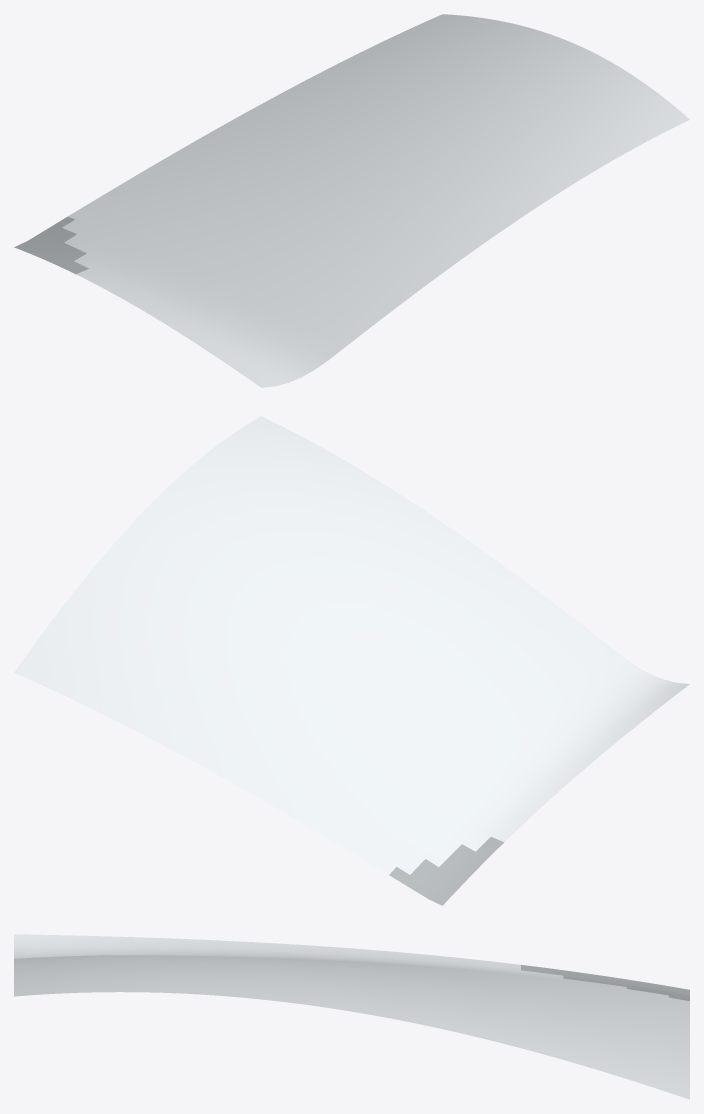
The model's file is alpine-13-9.glb.
3 views of the same model, one above another, from view 1: azimuth 30°, elevation 25°; view 2: azimuth 150°, elevation 25°; view 3: azimuth 270°, elevation 25° (orthographic). The views are drawn at different scales.
Visible parts, largest first — view 1: alpine-13-9; view 2: alpine-13-9; view 3: alpine-13-9.
Boxes of the visible parts, <box> form: alpine-13-9: <box>14,14,689,387</box>; alpine-13-9: <box>14,416,689,905</box>; alpine-13-9: <box>14,934,689,1099</box>.
Size of the model in its own units: 256 by 118 by 256.
2 materials, 2 textured.
